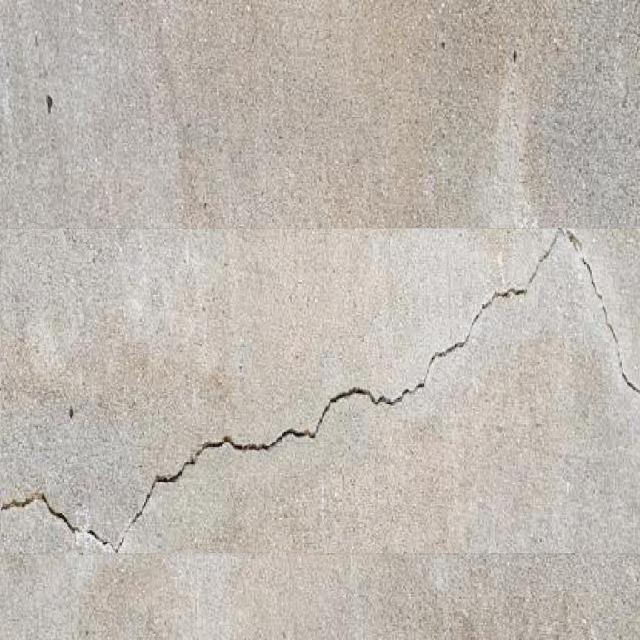Crack: (0, 224, 639, 556)
